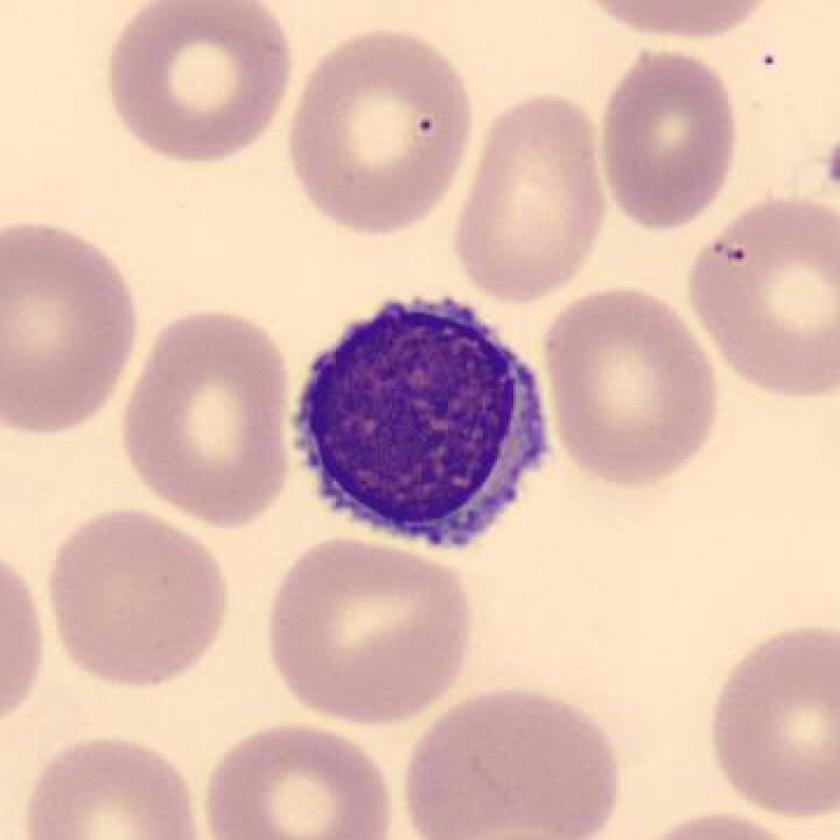lymphocyte: (269, 277, 566, 571)
